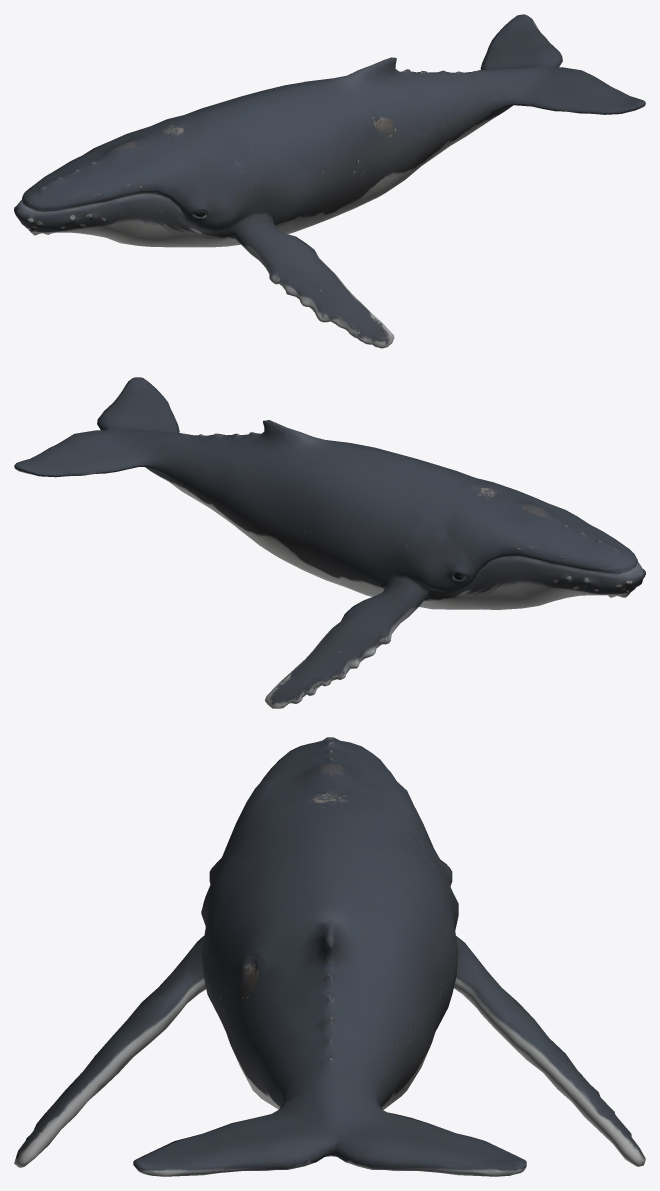
Rendered from original_glb.glb.
3 views of the same model, one above another, from view 1: azimuth 30°, elevation 25°; view 2: azimuth 150°, elevation 25°; view 3: azimuth 270°, elevation 25° (orthographic). The views are drawn at different scales.
Parts seen in each view (by area): view 1: Whale; view 2: Whale; view 3: Whale.
Boxes of the visible parts, x1,y1,x2,y2 form: Whale: (14,14,645,348); Whale: (14,377,645,708); Whale: (14,737,645,1176).
Size of the model in its own units: 0.998 by 0.3223 by 0.5996.
1 material, 1 textured.
